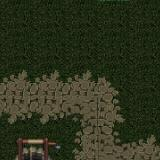Hide: (0, 122, 72, 160)
